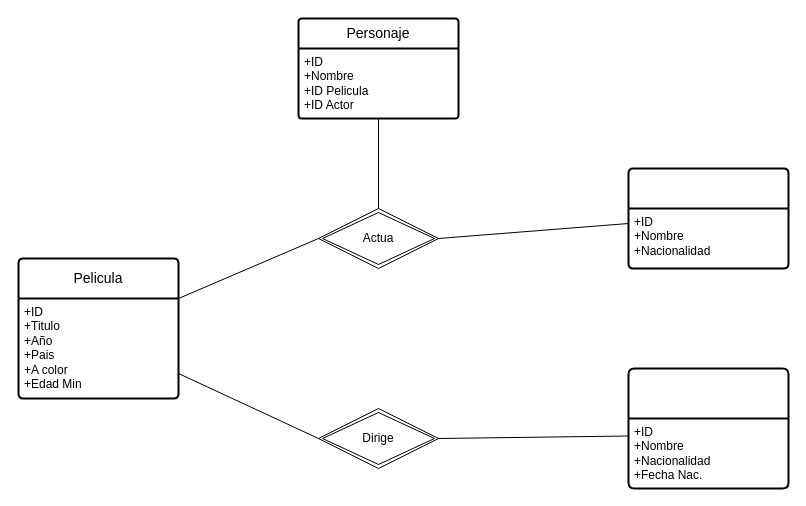
This 806x506 diagram has some shape labels left out. Here are the shapes that lost their labels. From the top down, the box of each, then its label:
(627, 167, 789, 269): Actor
(627, 367, 789, 489): Director
